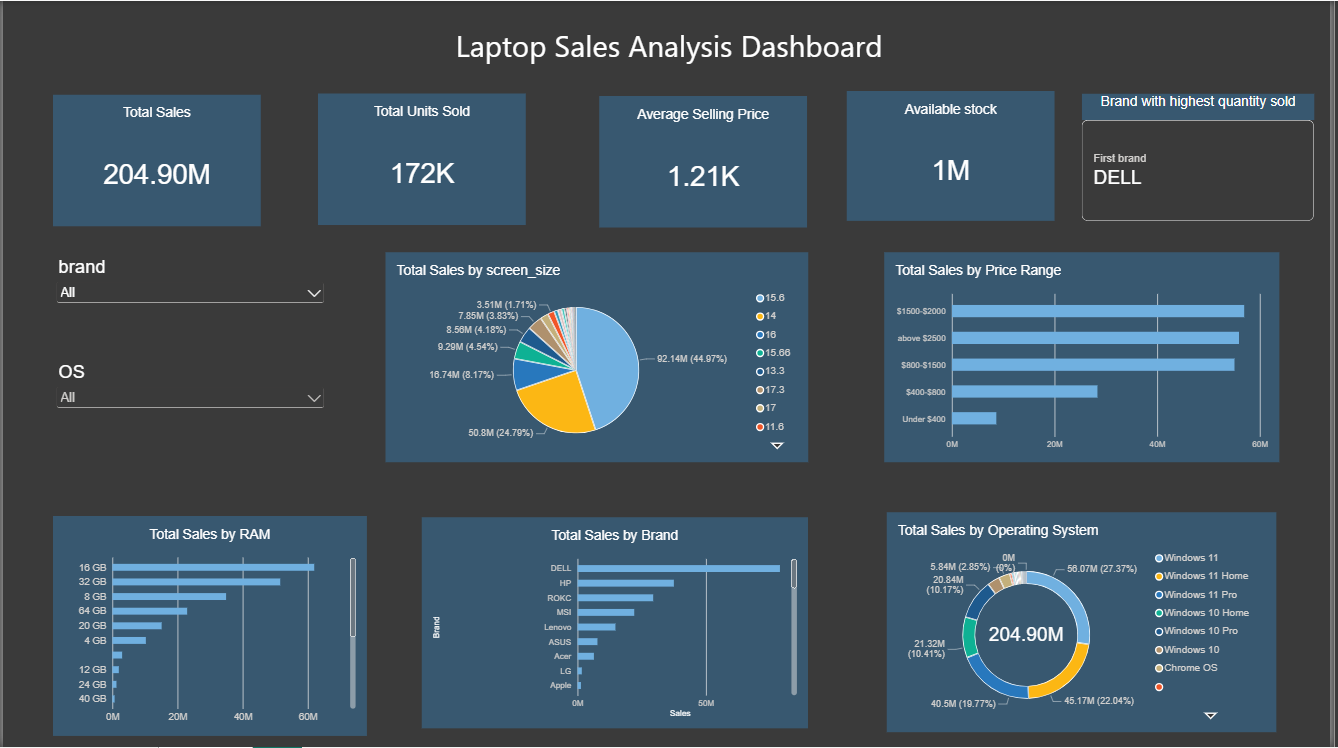

The page's visual inventory and layout, read from the dashboard file:
{"tool":"powerbi","page":{"name":"Page 1","canvas":[1920,1080],"ordinal":0},"visuals":[{"type":"textbox","box":[470.5,34.4,988.1,74.2],"z":0},{"type":"card","title":"Total Sales","fields":{"Values":["Sum(amazon_laptop_sales (2).Total Sales)"]},"box":[72.4,135.7,300.8,190.4],"z":1},{"type":"card","title":"Total Units Sold","fields":{"Values":["Sum(amazon_laptop_sales (2).Sale Product Count)"]},"box":[456,133.9,300.8,190.4],"z":2},{"type":"card","title":"Average Selling Price","fields":{"Values":["Avg(amazon_laptop_sales (2).Price)"]},"box":[863.2,137.5,300.8,190.4],"z":3},{"type":"card","title":"Available stock","fields":{"Values":["Sum(amazon_laptop_sales (2).Available Stock)"]},"box":[1221.5,130.3,300.8,188.3],"z":4},{"type":"cardVisual","title":"Brand with highest quantity sold","fields":{"Data":["Min(amazon_laptop_sales (2).brand)"]},"box":[1561.7,133.9,336.6,184.6],"z":5},{"type":"clusteredBarChart","title":"Total Sales by Brand","fields":{"Category":["amazon_laptop_sales (2).brand"],"Y":["Sum(amazon_laptop_sales (2).Total Sales)"]},"box":[606.2,747.4,559.2,305.8],"z":6},{"type":"donutChart","title":"Total Sales by Operating System","fields":{"Category":["amazon_laptop_sales (2).OS"],"Y":["Sum(amazon_laptop_sales (2).Total Sales)"]},"box":[1279.4,740.2,564,318],"z":7},{"type":"clusteredBarChart","title":"Total Sales by Price Range","fields":{"Category":["amazon_laptop_sales (2).Price Range"],"Y":["Sum(amazon_laptop_sales (2).Total Sales)"]},"box":[1275.8,363.7,571.9,304],"z":8},{"type":"slicer","fields":{"Values":["amazon_laptop_sales (2).brand"]},"box":[72.4,369.2,398.1,108.6],"z":9},{"type":"slicer","fields":{"Values":["amazon_laptop_sales (2).OS"]},"box":[72.4,521.2,398.1,121.2],"z":10},{"type":"pieChart","title":"Total Sales by screen_size","fields":{"Category":["amazon_laptop_sales (2).screen_size"],"Y":["Sum(amazon_laptop_sales (2).Total Sales)"]},"box":[553.8,363.7,611.7,304],"z":11},{"type":"clusteredBarChart","title":" Total Sales by RAM","fields":{"Category":["amazon_laptop_sales (2).ram"],"Y":["Sum(amazon_laptop_sales (2).Total Sales)"]},"box":[72.4,745.6,454.2,318.5],"z":13}]}

Visuals, with their boxes in screenshot pixels (x1, y1, x2, y2), scaled from the page's 1920x1080 canvas onto the 1338x748 screenshot:
textbox: crop(328, 24, 1016, 75)
"Total Sales" card: crop(50, 94, 260, 226)
"Total Units Sold" card: crop(318, 93, 527, 225)
"Average Selling Price" card: crop(602, 95, 811, 227)
"Available stock" card: crop(851, 90, 1061, 221)
"Brand with highest quantity sold" cardVisual: crop(1088, 93, 1323, 221)
"Total Sales by Brand" clusteredBarChart: crop(422, 518, 812, 729)
"Total Sales by Operating System" donutChart: crop(892, 513, 1285, 733)
"Total Sales by Price Range" clusteredBarChart: crop(889, 252, 1288, 462)
slicer - amazon_laptop_sales (2).brand: crop(50, 256, 328, 331)
slicer - amazon_laptop_sales (2).OS: crop(50, 361, 328, 445)
"Total Sales by screen_size" pieChart: crop(386, 252, 812, 462)
" Total Sales by RAM" clusteredBarChart: crop(50, 516, 367, 737)
